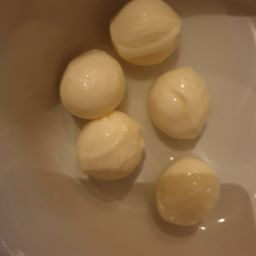Mini Mozzarella Cheese: (42, 6, 245, 255), (37, 46, 129, 116), (144, 61, 220, 145), (150, 163, 231, 240), (79, 104, 149, 186), (112, 6, 186, 63)
